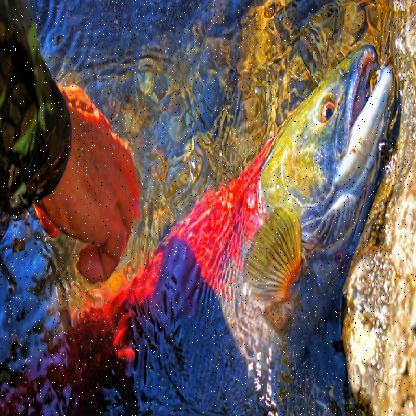fish: (0, 38, 398, 414)
